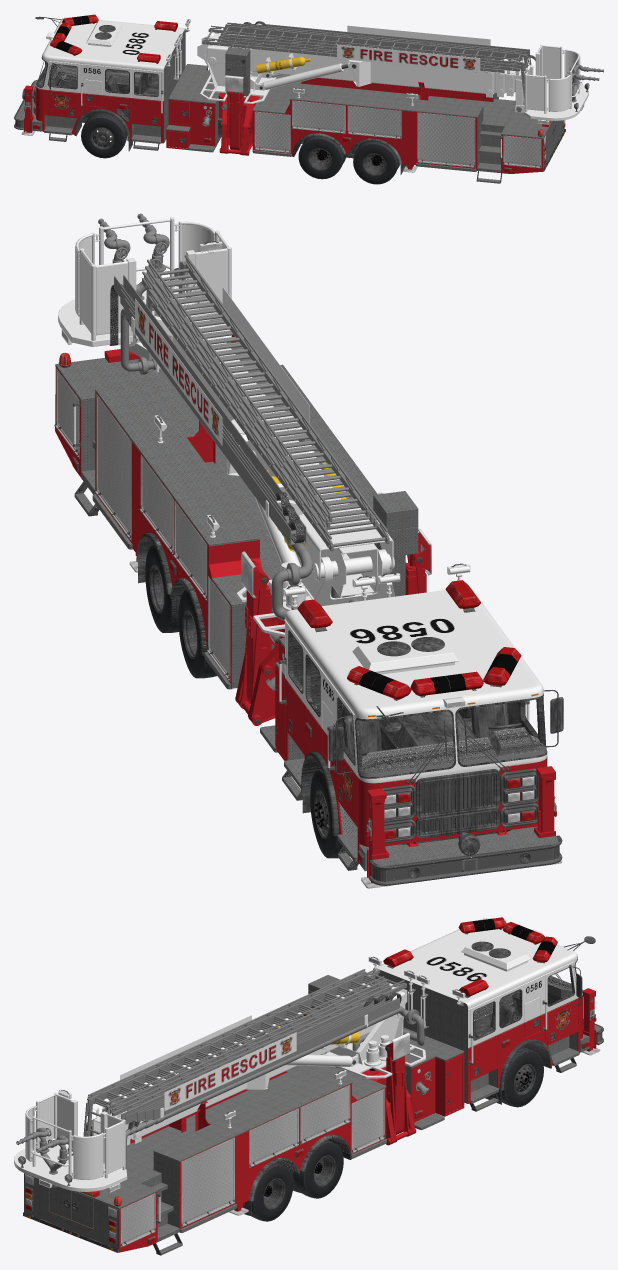
Rendered from 消防车.glb.
The picture shows the model from 3 angles, top to bottom: view 1: azimuth 30°, elevation 25°; view 2: azimuth 150°, elevation 25°; view 3: azimuth 270°, elevation 25°; orthographic projection. The views are drawn at different scales.
Visible parts, largest first — view 1: 立方体; view 2: 立方体; view 3: 立方体.
Boxes of the visible parts, x1,y1,x2,y2 form: 立方体: (14, 14, 603, 184); 立方体: (54, 213, 563, 888); 立方体: (14, 917, 603, 1255).
Bounding box in the file's own units: 26.07 × 7.52 × 24.6.
Materials: 22 (16 with a texture image).
